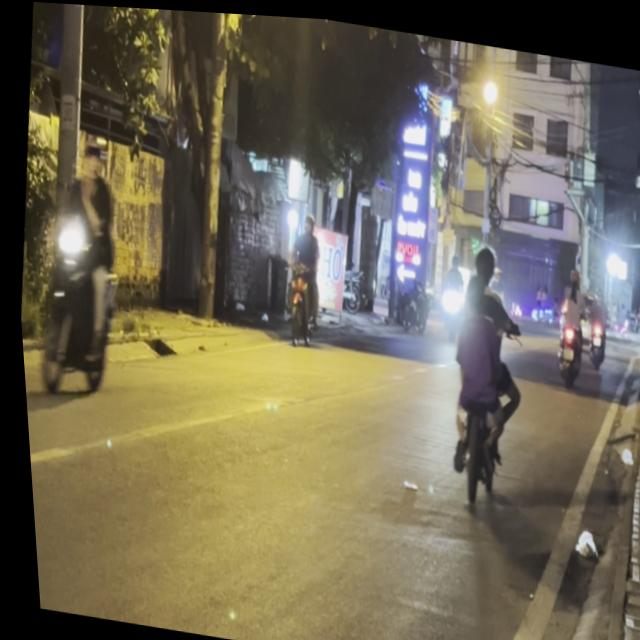helmet: (72, 132, 104, 180)
licenseplate: (10, 120, 136, 409), (420, 225, 537, 507)
motorcyclist: (465, 234, 493, 277)
